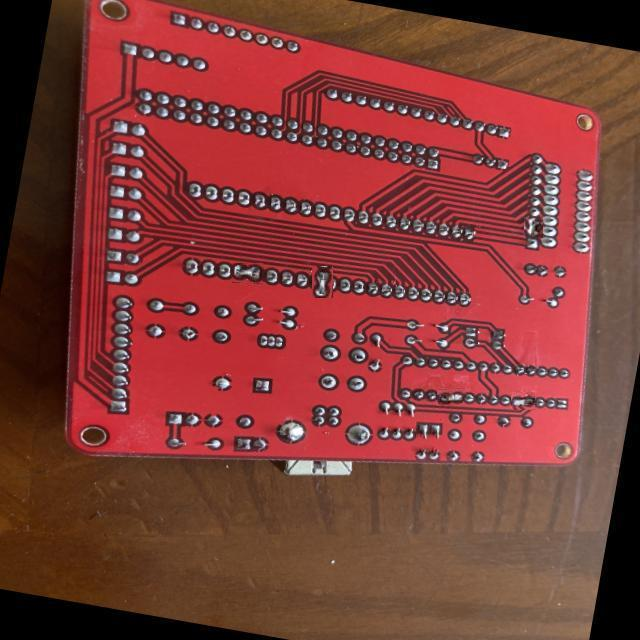damged: (309, 268, 335, 296), (232, 262, 264, 283), (437, 388, 464, 406), (511, 392, 535, 410), (524, 217, 543, 238)
